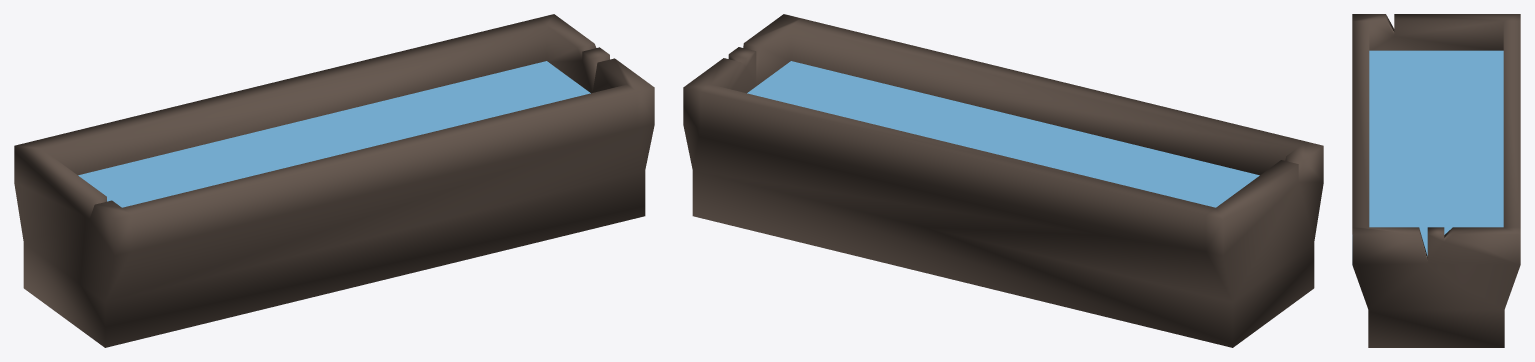
The model's file is waterTray.glb.
3 renders of one model, left to right at view 1: azimuth 30°, elevation 25°; view 2: azimuth 150°, elevation 25°; view 3: azimuth 270°, elevation 25°, orthographic. The views are drawn at different scales.
Visible parts, largest first — view 1: trough; view 2: trough; view 3: trough.
Boxes of the visible parts, bbox=[...] form: trough: bbox=[14, 14, 654, 347]; trough: bbox=[683, 14, 1323, 347]; trough: bbox=[1352, 14, 1520, 347].
Bounding box in the file's own units: 2.63 × 0.6323 × 0.85.
Materials: 1 (1 with a texture image).
